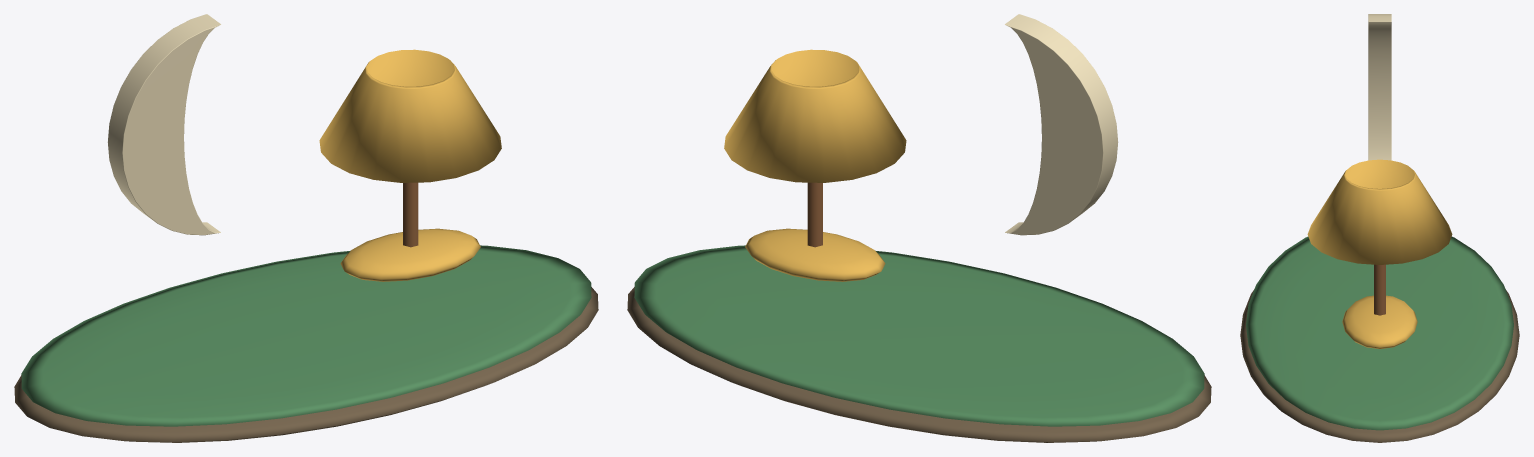
File: bright-moon.glb
The picture shows the model from 3 angles, left to right: view 1: azimuth 30°, elevation 25°; view 2: azimuth 150°, elevation 25°; view 3: azimuth 270°, elevation 25°; orthographic projection. The views are drawn at different scales.
Parts seen in each view (by area): view 1: bright-moon_surface_01, bright-moon_surface_03, bright-moon_surface_02, bright-moon_surface_00, bright-moon_surface_04; view 2: bright-moon_surface_01, bright-moon_surface_03, bright-moon_surface_02, bright-moon_surface_00, bright-moon_surface_04; view 3: bright-moon_surface_01, bright-moon_surface_03, bright-moon_surface_00, bright-moon_surface_02, bright-moon_surface_04.
Boxes of the visible parts, left/top/right/bottom form: bright-moon_surface_01: left=21, top=245, right=591, bottom=426; bright-moon_surface_03: left=319, top=49, right=501, bottom=281; bright-moon_surface_02: left=107, top=14, right=220, bottom=235; bright-moon_surface_00: left=14, top=287, right=598, bottom=442; bright-moon_surface_04: left=403, top=182, right=418, bottom=247; bright-moon_surface_01: left=634, top=245, right=1204, bottom=426; bright-moon_surface_03: left=724, top=49, right=906, bottom=281; bright-moon_surface_02: left=1005, top=14, right=1118, bottom=235; bright-moon_surface_00: left=627, top=287, right=1211, bottom=442; bright-moon_surface_04: left=807, top=182, right=822, bottom=247; bright-moon_surface_01: left=1246, top=236, right=1513, bottom=430; bright-moon_surface_03: left=1307, top=159, right=1452, bottom=348; bright-moon_surface_00: left=1240, top=289, right=1519, bottom=442; bright-moon_surface_02: left=1368, top=14, right=1391, bottom=160; bright-moon_surface_04: left=1374, top=264, right=1385, bottom=315.
Size of the model in its own units: 4.56 by 2.87 by 2.5.
